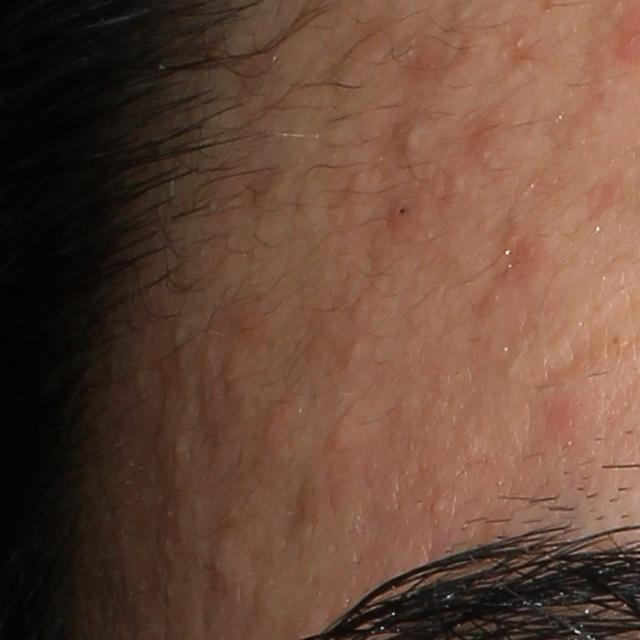comedo: (399, 115, 428, 155), (344, 339, 364, 358), (429, 498, 446, 514)
papule: (544, 394, 586, 446), (263, 407, 295, 451)
